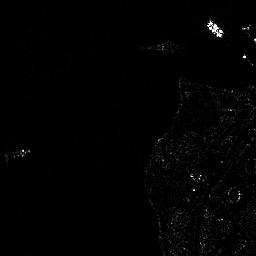ship: (206, 18, 224, 38)
